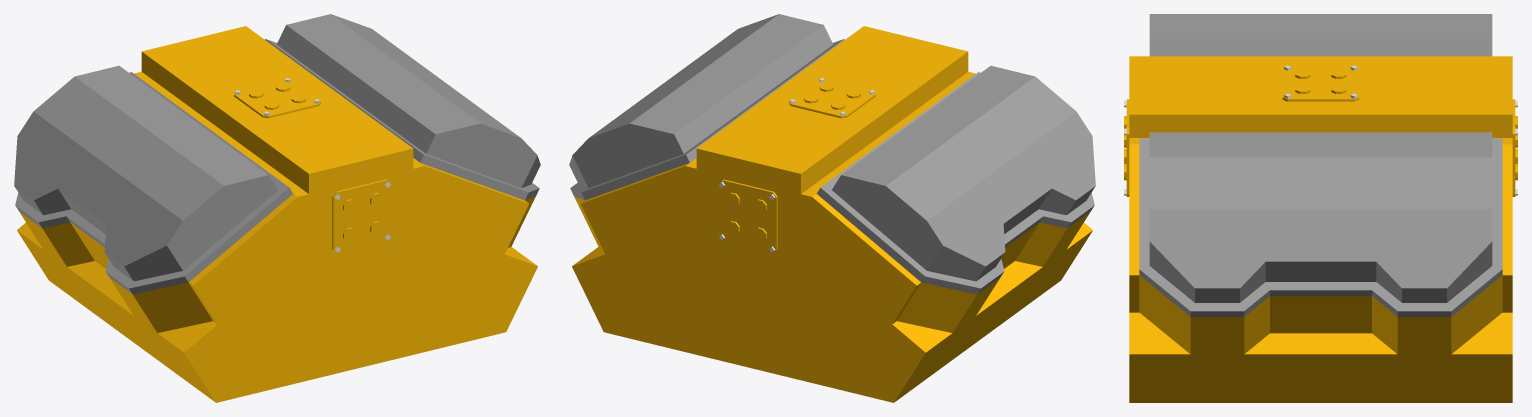
The model's file is modular_engine_cylinder_3x5x2.dae.
3 renders of one model, left to right at view 1: azimuth 30°, elevation 25°; view 2: azimuth 150°, elevation 25°; view 3: azimuth 270°, elevation 25°, orthographic. The views are drawn at different scales.
Parts seen in each view (by area): view 1: Cube; view 2: Cube; view 3: Cube.
Boxes of the visible parts, left/top/right/bottom form: Cube: left=14, top=14, right=540, bottom=402; Cube: left=569, top=14, right=1095, bottom=402; Cube: left=1124, top=14, right=1517, bottom=402.
Bounding box in the file's own units: 1.08 × 0.77 × 0.52.
